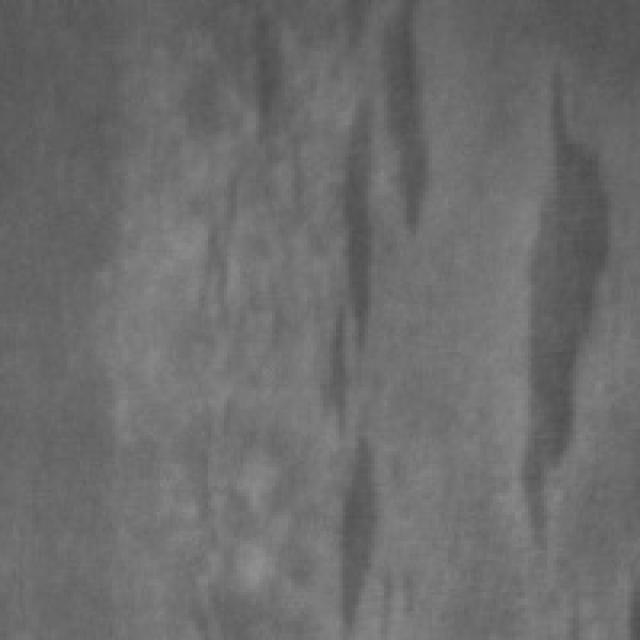inclusion: (310, 0, 431, 630), (508, 48, 618, 557), (233, 0, 294, 144)
